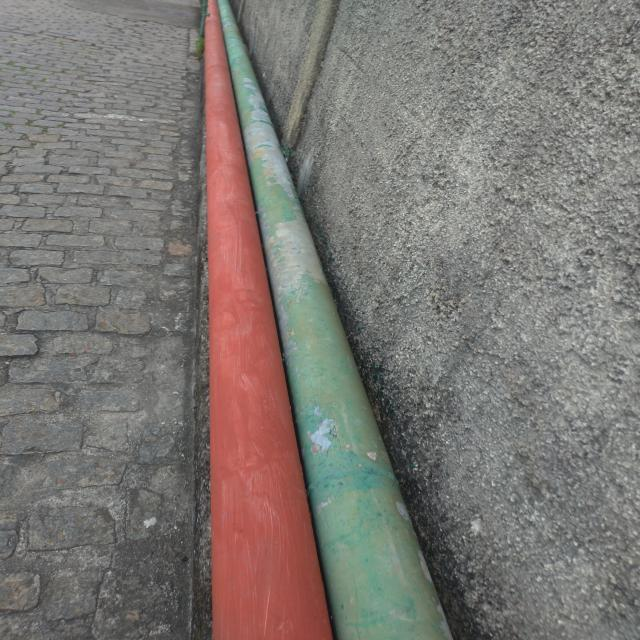gas: (220, 1, 453, 637), (206, 3, 335, 640)
